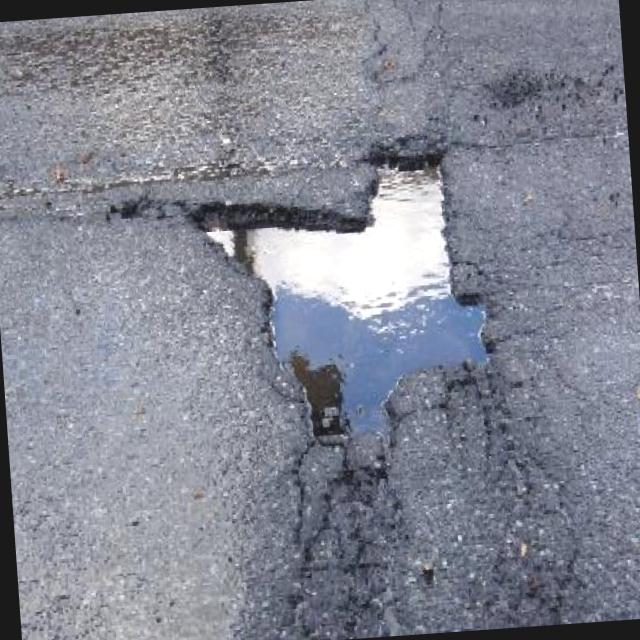Lubang: (182, 167, 484, 432)
